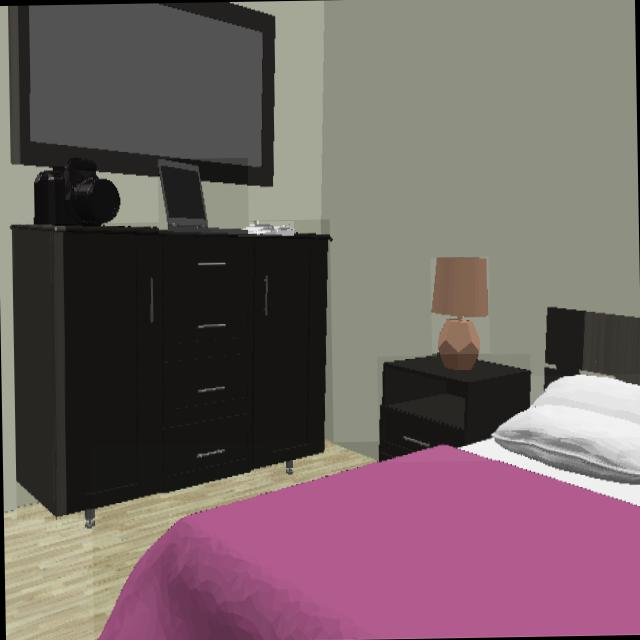bed: (96, 440, 640, 640)
book: (237, 222, 293, 236)
cabinet: (11, 225, 330, 518)
lamp: (431, 257, 489, 371)
laptop: (157, 159, 248, 235)
nighttable: (378, 355, 531, 462)
pillow: (491, 374, 640, 484)
